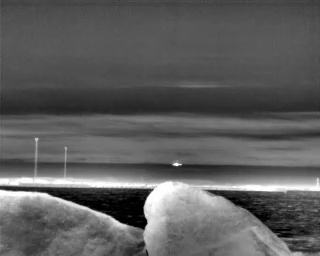HELICOPTER: (169, 159, 185, 171)
